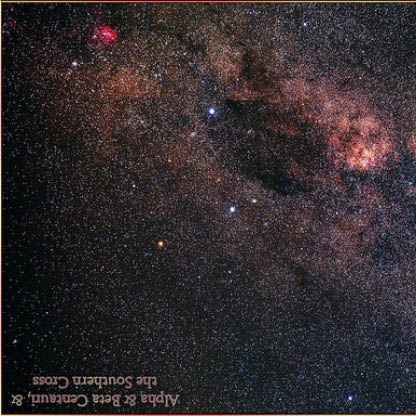Southern Cross: (120, 173, 146, 199), (218, 195, 242, 221), (201, 99, 224, 118), (153, 233, 171, 257)
